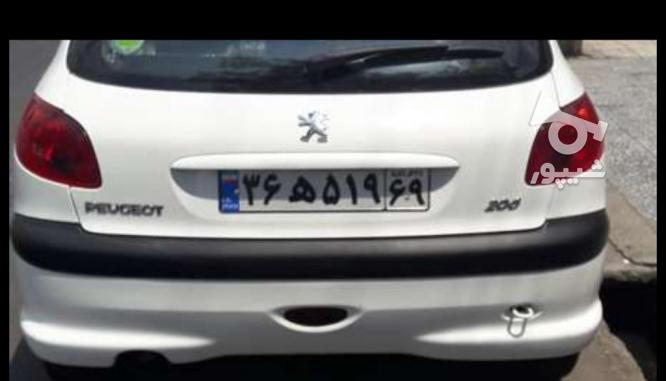car: (210, 165, 435, 213)
